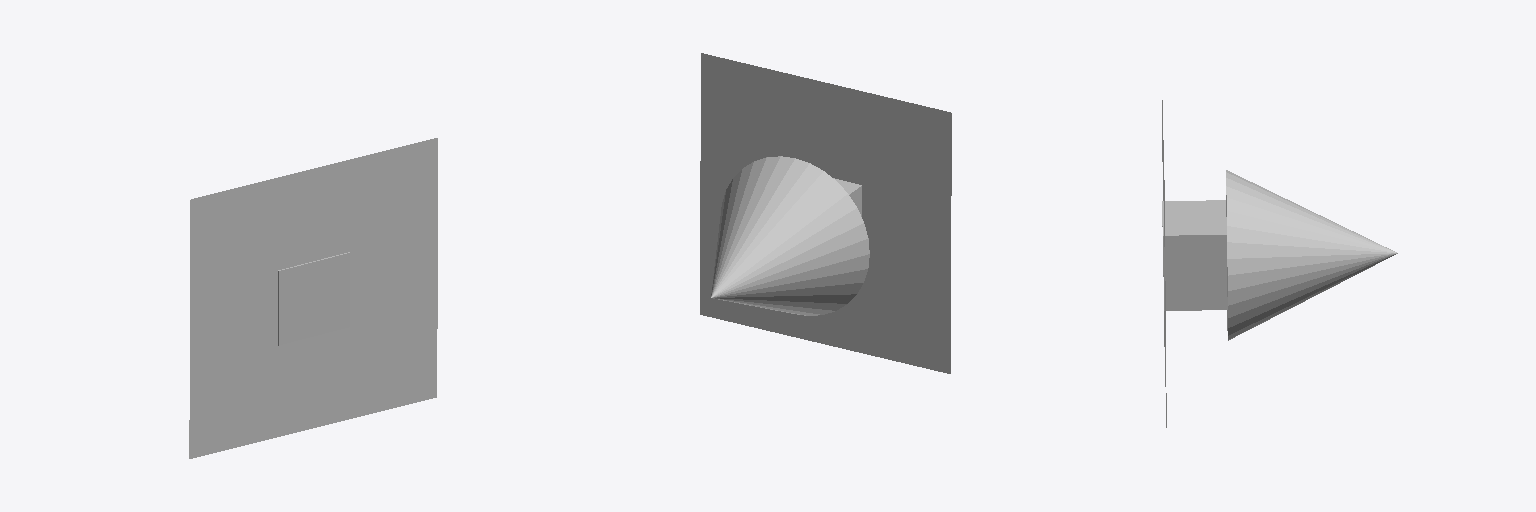
Rendered from casa.obj.
3 renders of one model, left to right at view 1: azimuth 30°, elevation 25°; view 2: azimuth 150°, elevation 25°; view 3: azimuth 270°, elevation 25°, orthographic.
Parts seen in each view (by area): view 1: Plane, Cube_Cube.001; view 2: Plane, Cone; view 3: Cone, Cube_Cube.001.
Boxes of the visible parts, x1,y1,x2,y2 form: Plane: [189, 138, 437, 458]; Cube_Cube.001: [278, 252, 349, 345]; Plane: [700, 53, 951, 373]; Cone: [711, 156, 869, 315]; Cone: [1226, 170, 1397, 340]; Cube_Cube.001: [1162, 200, 1227, 310].
Bounding box in the file's own units: 2 × 2 × 1.64.